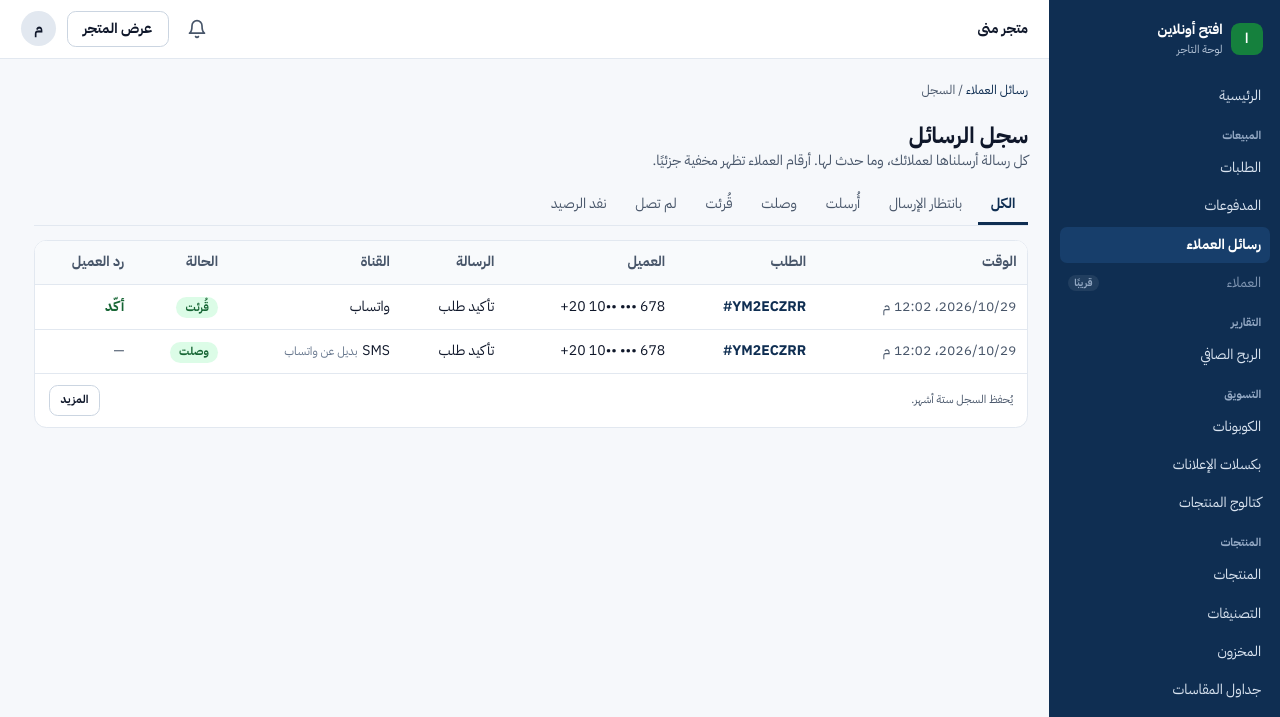
Scenario: MessageLog › lists messages, filters by status, and pages
Expected: the number of rows is 3, left=35, top=241, right=1027, bottom=285; left=35, top=285, right=1027, bottom=329; left=35, top=329, right=1027, bottom=373
Expected: the text "أكّد" is shown, left=105, top=296, right=124, bottom=317
Click the button "المزيد" at (74, 400), box left=49, top=385, right=100, bottom=416
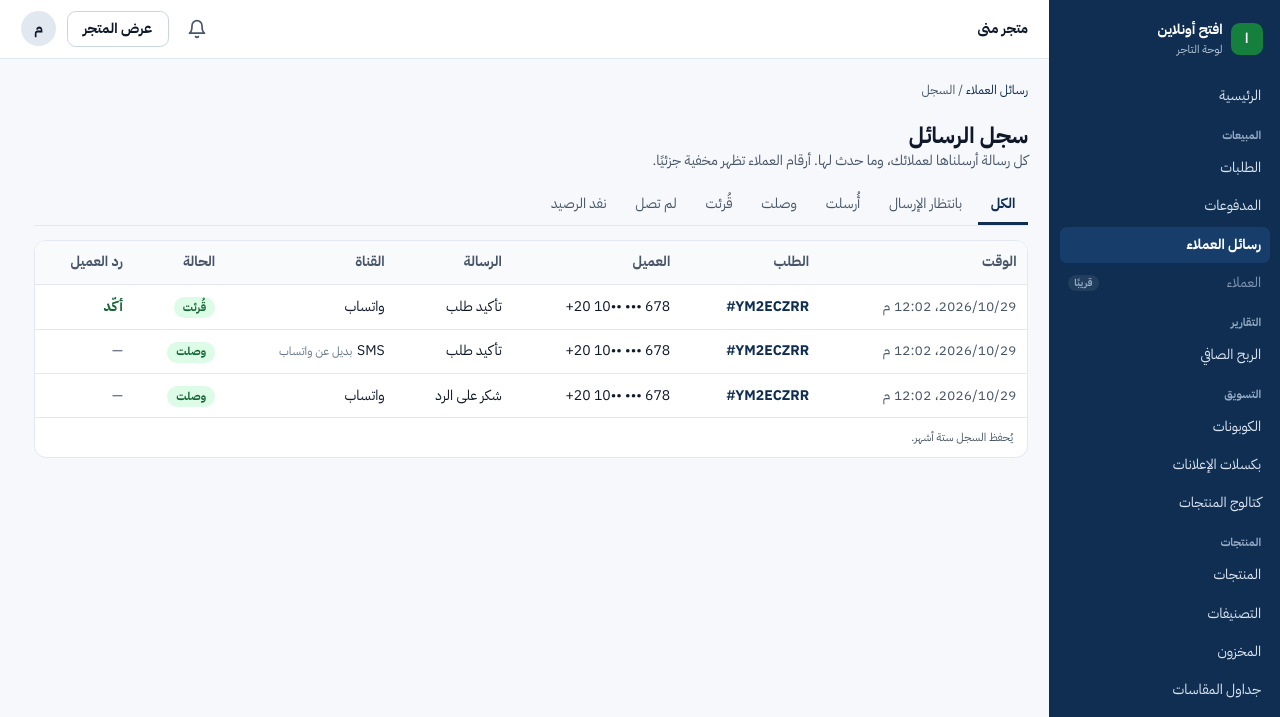
Now the text "شكر على الرد" is shown, box left=395, top=374, right=512, bottom=418
Now the button "المزيد" is gone
Click the tab "لم تصل" at (656, 206), box left=623, top=186, right=689, bottom=225
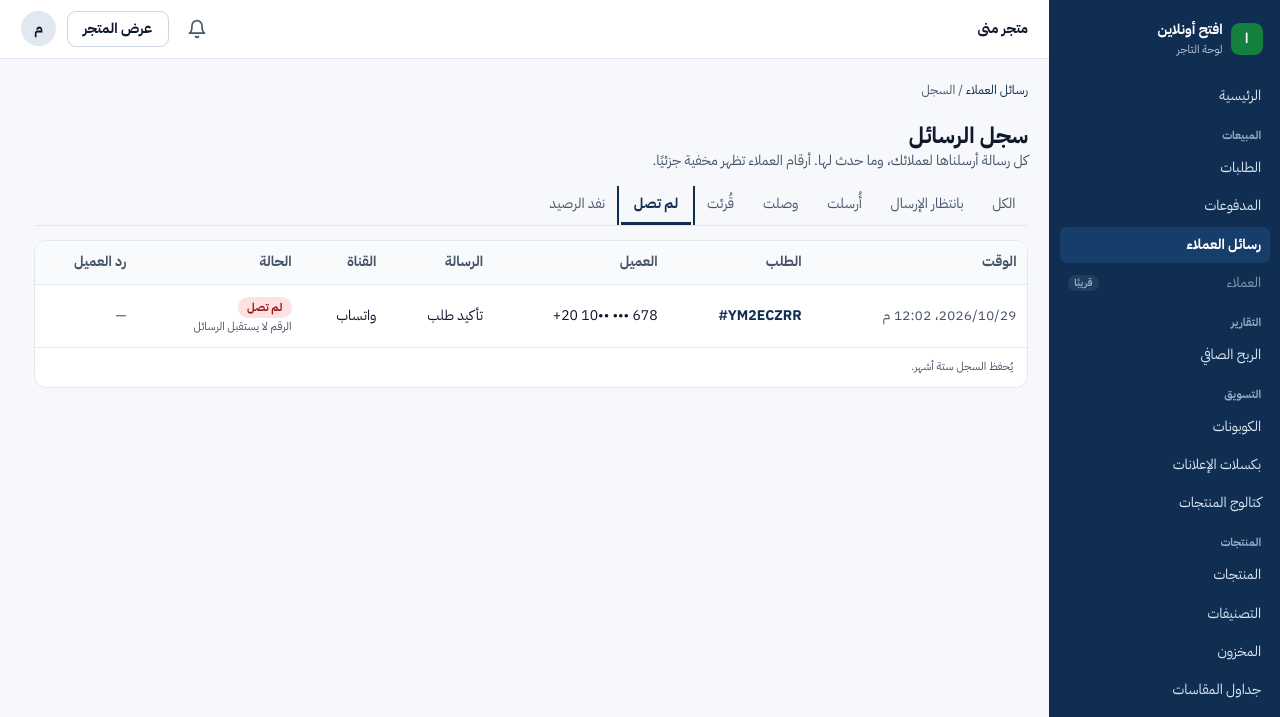
Now the text "الرقم لا يستقبل الرسائل" is shown, box left=194, top=318, right=292, bottom=335
Now the number of rows is 2, box left=35, top=241, right=1027, bottom=285; left=35, top=285, right=1027, bottom=347
